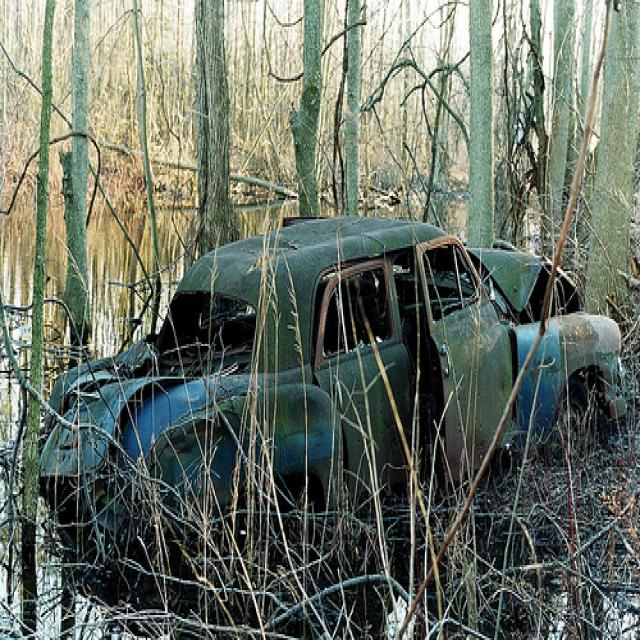Car: (38, 214, 620, 561)
